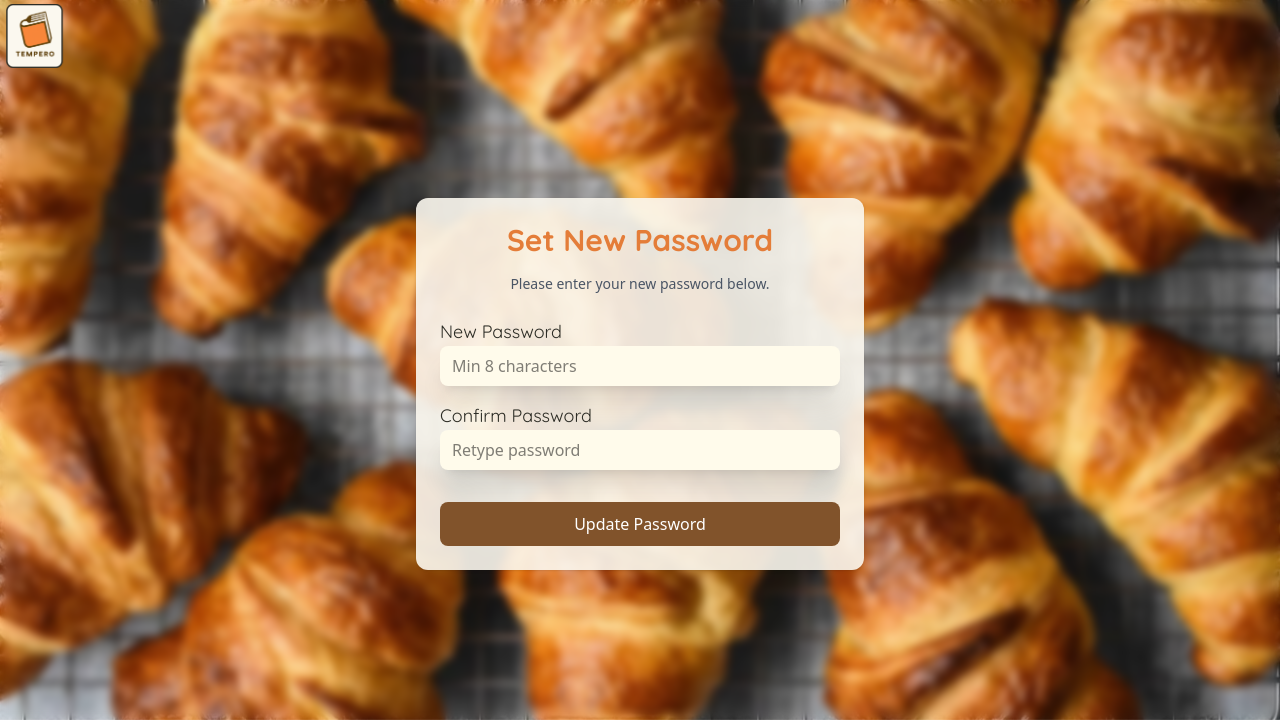
Test: UpdatePasswordPage › mostra erro quando passwords não coincidem
The image size is (1280, 720).
In the password field labelled "New Password": x=640, y=366 [440,346,840,386], type "Password123!"
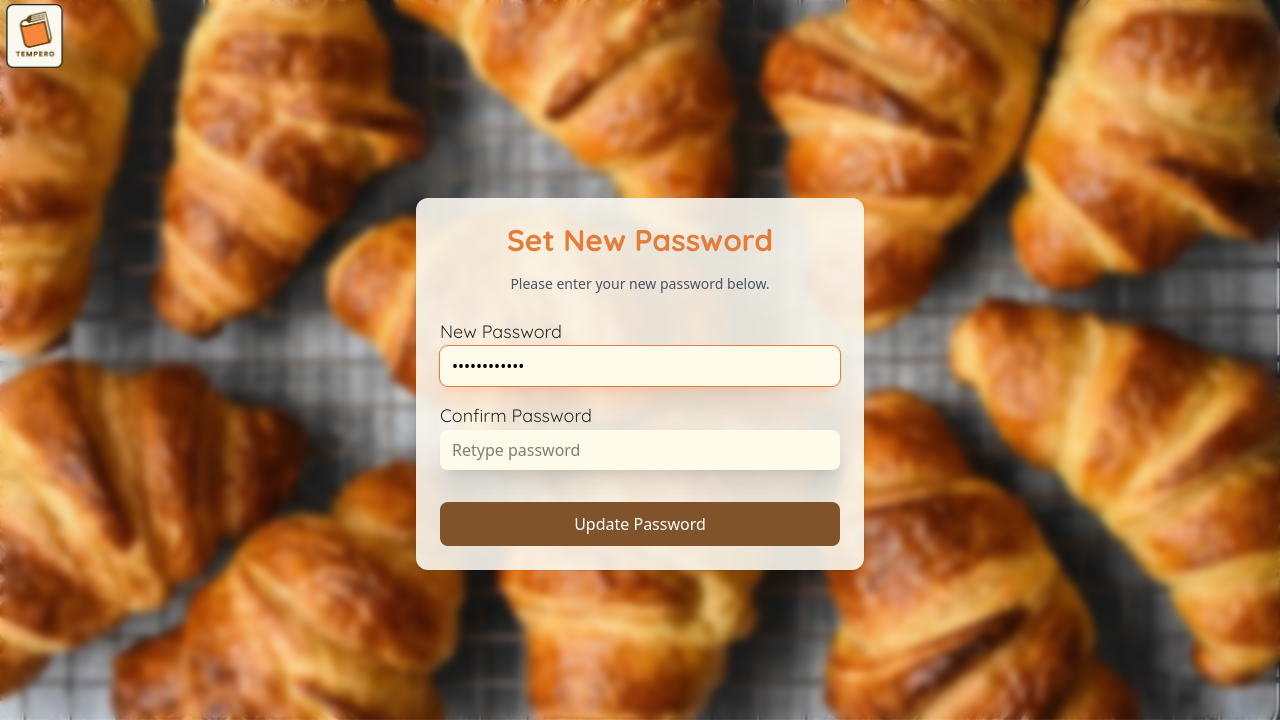
In the password field labelled "Confirm Password": x=640, y=450 [440,430,840,470], type "Different123!"
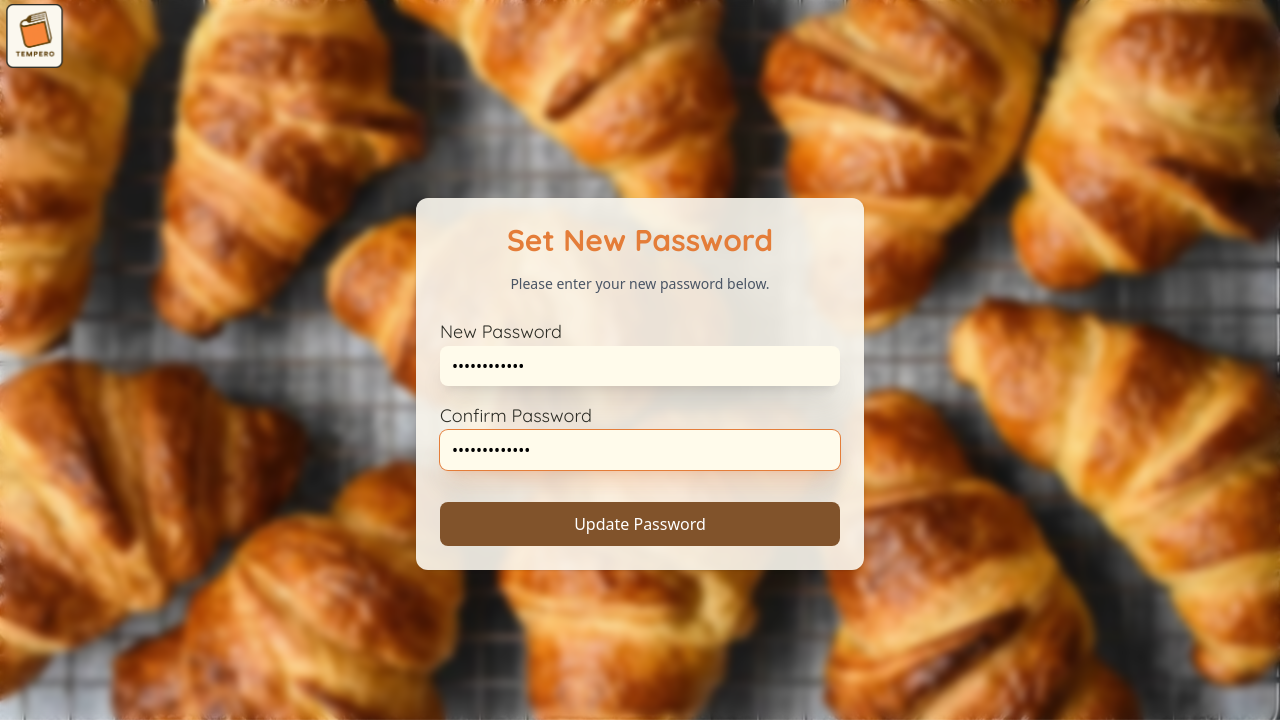
Click the button "Update Password": x=640, y=524 [440,502,840,546]
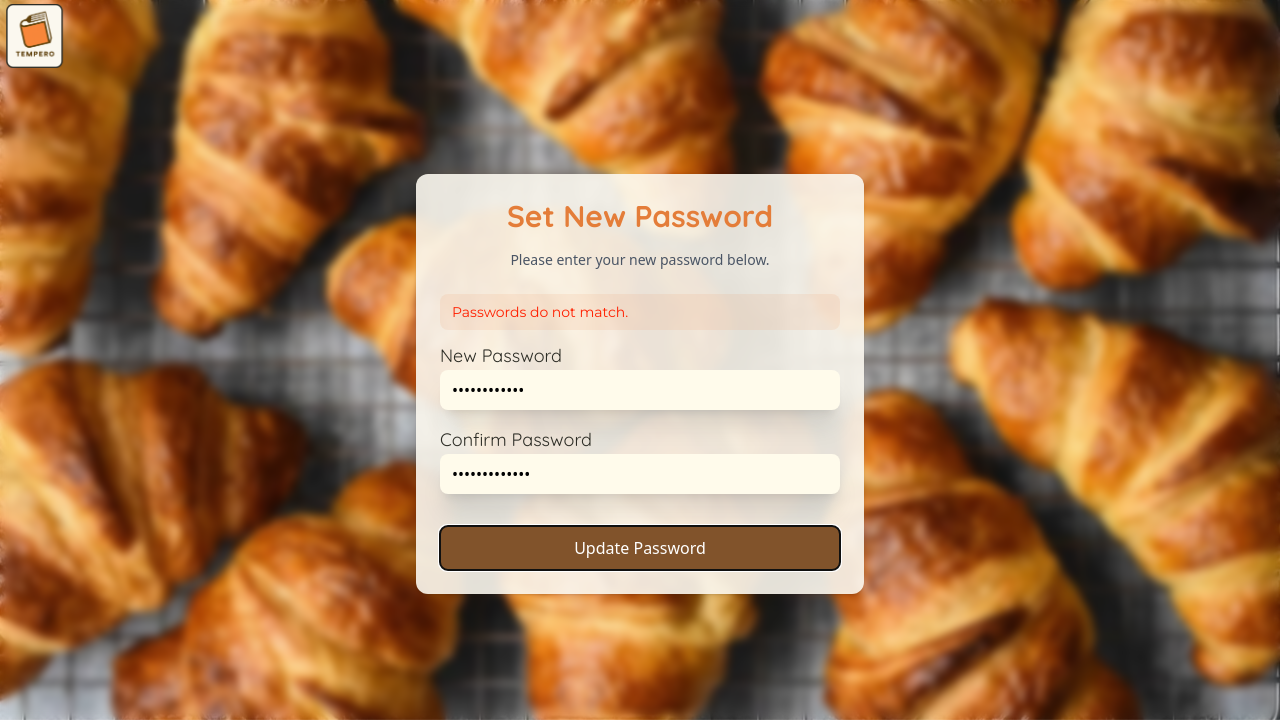
Result: the text "Passwords do not match." is shown at [440,294,840,330]
